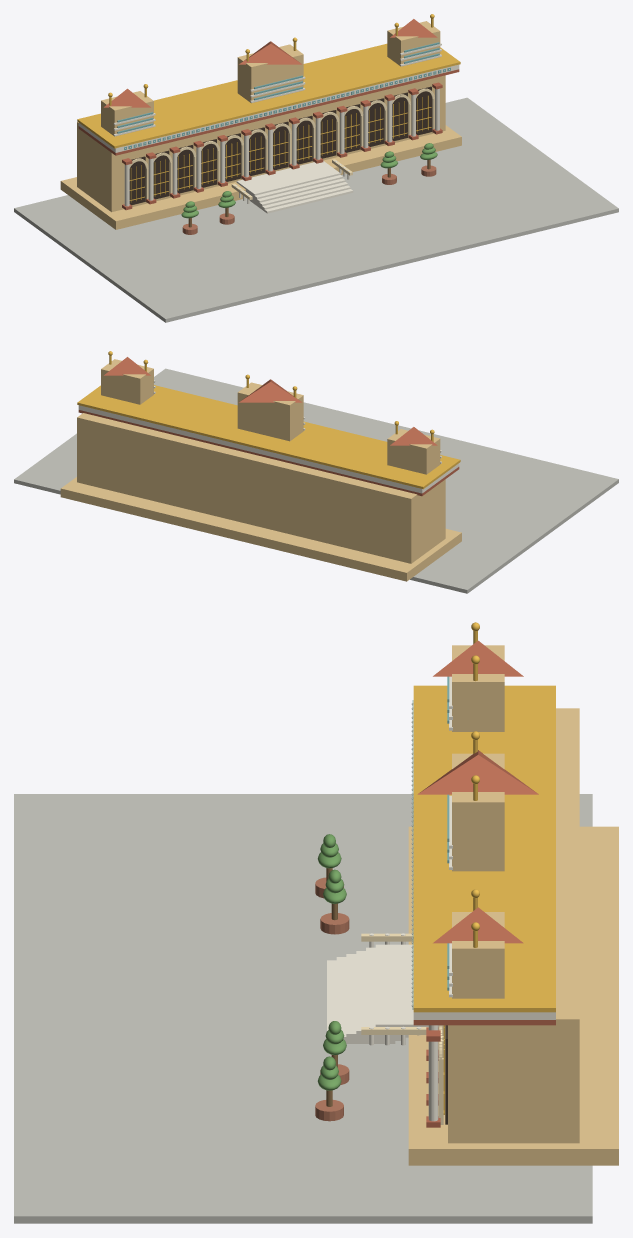
The model's file is mat-tien-vinh-trang.glb.
3 renders of one model, top to bottom at view 1: azimuth 30°, elevation 25°; view 2: azimuth 150°, elevation 25°; view 3: azimuth 270°, elevation 25°, orthographic. The views are drawn at different scales.
Parts seen in each view (by area): view 1: Sân, Viền mái trên, Khối kiến trúc, Nền chính điện, Tháp trang trí.002, Bậc thềm.005, Diềm gốm, Viền mái dưới, Tháp trang trí.001, Tháp trang trí, Mái tam giác.002, Cửa vòm (+19 smaller); view 2: Khối kiến trúc, Sân, Viền mái trên, Nền chính điện, Tháp trang trí.002, Diềm gốm, Tháp trang trí, Tháp trang trí.001, Viền mái dưới, Mái tam giác.002, Mái tam giác, Mái tam giác.001; view 3: Sân, Viền mái trên, Khối kiến trúc, Nền chính điện, Tháp trang trí.002, Tháp trang trí, Tháp trang trí.001, Bậc thềm.005, Mái tam giác.002, Mái tam giác.001, Mái tam giác, Diềm gốm (+6 smaller).
Part boxes in pixels (left/top/right/bottom): Sân: left=14, top=97, right=618, bottom=322; Viền mái trên: left=77, top=43, right=460, bottom=148; Khối kiến trúc: left=77, top=75, right=445, bottom=212; Nền chính điện: left=60, top=125, right=461, bottom=229; Tháp trang trí.002: left=237, top=44, right=303, bottom=103; Bậc thềm.005: left=236, top=161, right=340, bottom=195; Diềm gốm: left=78, top=64, right=459, bottom=152; Viền mái dưới: left=78, top=69, right=459, bottom=155; Tháp trang trí.001: left=387, top=21, right=440, bottom=66; Tháp trang trí: left=101, top=91, right=153, bottom=136; Mái tam giác.002: left=239, top=41, right=302, bottom=64; Cửa vòm: left=129, top=156, right=145, bottom=205; Khối kiến trúc: left=77, top=413, right=445, bottom=563; Sân: left=14, top=368, right=618, bottom=593; Viền mái trên: left=77, top=385, right=460, bottom=489; Nền chính điện: left=60, top=477, right=461, bottom=581; Tháp trang trí.002: left=237, top=382, right=303, bottom=441; Diềm gốm: left=78, top=405, right=459, bottom=493; Tháp trang trí: left=387, top=429, right=440, bottom=474; Tháp trang trí.001: left=101, top=359, right=153, bottom=404; Viền mái dưới: left=78, top=410, right=459, bottom=496; Mái tam giác.002: left=239, top=379, right=302, bottom=402; Mái tam giác: left=390, top=427, right=437, bottom=445; Mái tam giác.001: left=104, top=357, right=150, bottom=375; Sân: left=14, top=794, right=592, bottom=1223; Viền mái trên: left=413, top=685, right=555, bottom=1012; Khối kiến trúc: left=448, top=708, right=579, bottom=1143; Nền chính điện: left=408, top=826, right=618, bottom=1165; Tháp trang trí.002: left=452, top=753, right=504, bottom=871; Tháp trang trí: left=452, top=645, right=504, bottom=731; Tháp trang trí.001: left=452, top=912, right=504, bottom=998; Bậc thềm.005: left=375, top=944, right=438, bottom=1026; Mái tam giác.002: left=417, top=750, right=538, bottom=794; Mái tam giác.001: left=433, top=907, right=523, bottom=943; Mái tam giác: left=433, top=640, right=523, bottom=676; Diềm gốm: left=413, top=1012, right=555, bottom=1019.
Bounding box in the file's own units: 38 × 10.85 × 23.
